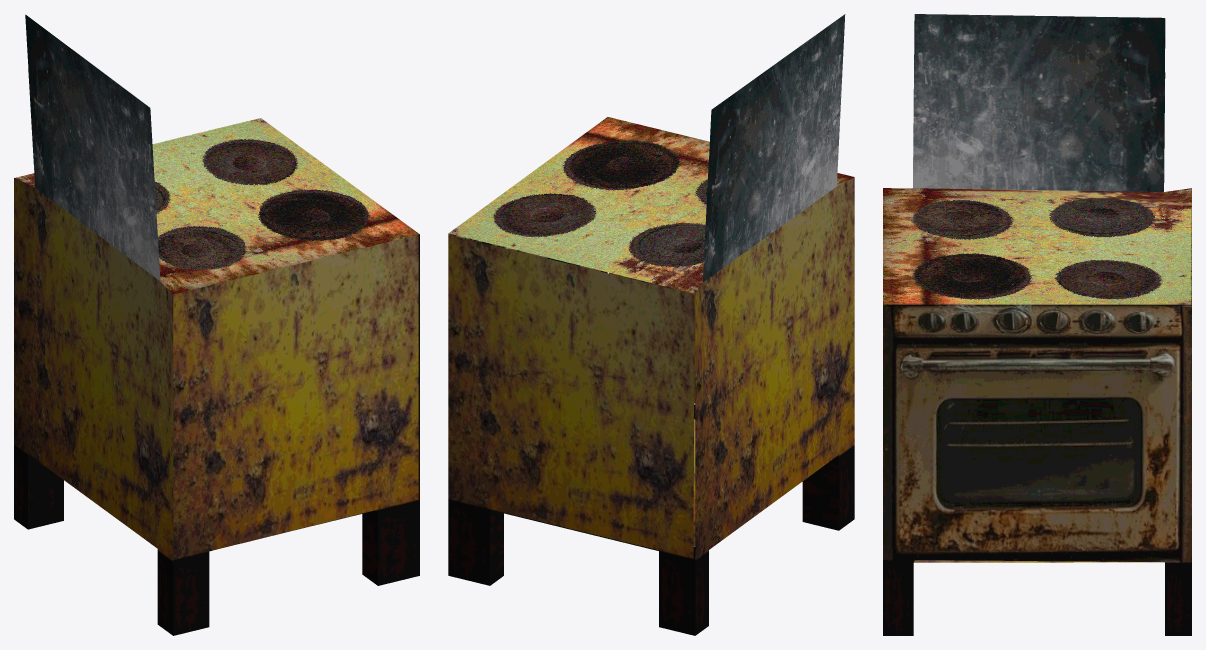
Rendered from Fogao.fbx.
The picture shows the model from 3 angles, left to right: view 1: azimuth 30°, elevation 25°; view 2: azimuth 150°, elevation 25°; view 3: azimuth 270°, elevation 25°; orthographic projection. The views are drawn at different scales.
Visible parts, largest first — view 1: Cube; view 2: Cube; view 3: Cube.
Part boxes in pixels (bbox=[...]): Cube: bbox=[14, 14, 419, 635]; Cube: bbox=[448, 14, 854, 635]; Cube: bbox=[883, 14, 1191, 635].
Bounding box in the file's own units: 87.62 × 171 × 95.4.
1 material, 1 textured.
